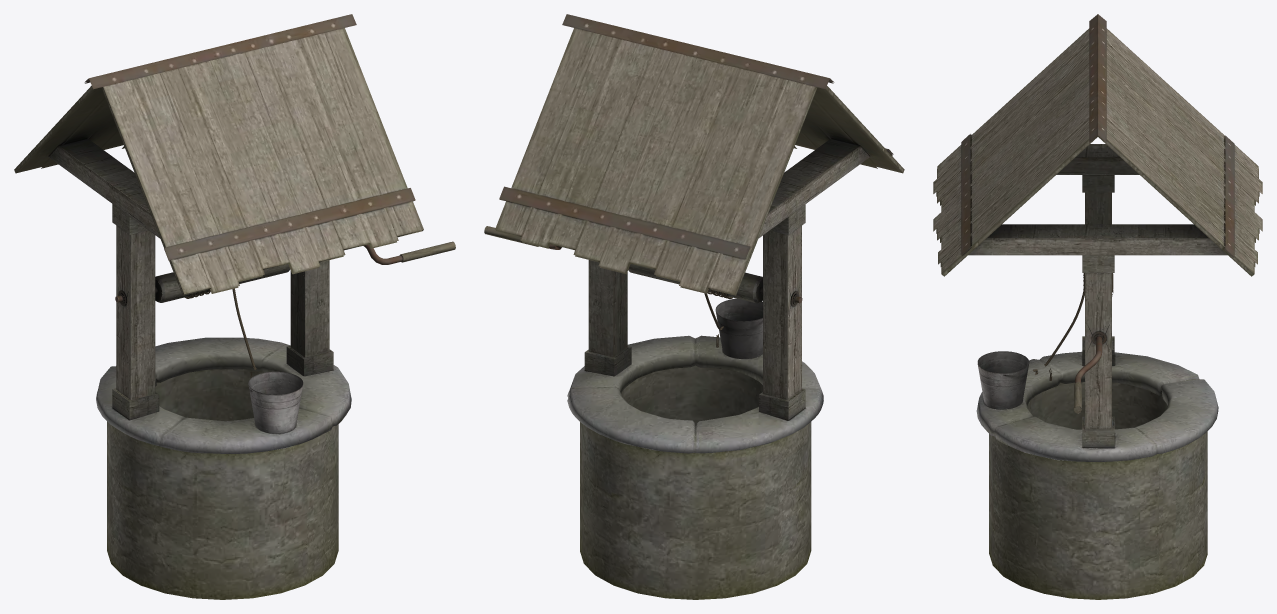
Rendered from pozo_piedra.glb.
The picture shows the model from 3 angles, left to right: view 1: azimuth 30°, elevation 25°; view 2: azimuth 150°, elevation 25°; view 3: azimuth 270°, elevation 25°; orthographic projection. The views are drawn at different scales.
Visible parts, largest first — view 1: Well_Top_0, Well_WellTube_0, Well_Details_0; view 2: Well_Top_0, Well_WellTube_0, Well_Details_0; view 3: Well_WellTube_0, Well_Top_0, Well_Details_0.
Part boxes in pixels (bbox=[...]): Well_Top_0: bbox=[14, 14, 423, 295]; Well_WellTube_0: bbox=[96, 337, 351, 599]; Well_Details_0: bbox=[48, 139, 455, 433]; Well_Top_0: bbox=[495, 14, 904, 295]; Well_WellTube_0: bbox=[567, 335, 823, 599]; Well_Details_0: bbox=[484, 138, 870, 420]; Well_WellTube_0: bbox=[976, 351, 1218, 599]; Well_Top_0: bbox=[933, 14, 1262, 276]; Well_Details_0: bbox=[968, 144, 1227, 448].
Size of the model in its own units: 1.91 by 2.6 by 1.62.
Materials: 4 (4 with a texture image).
